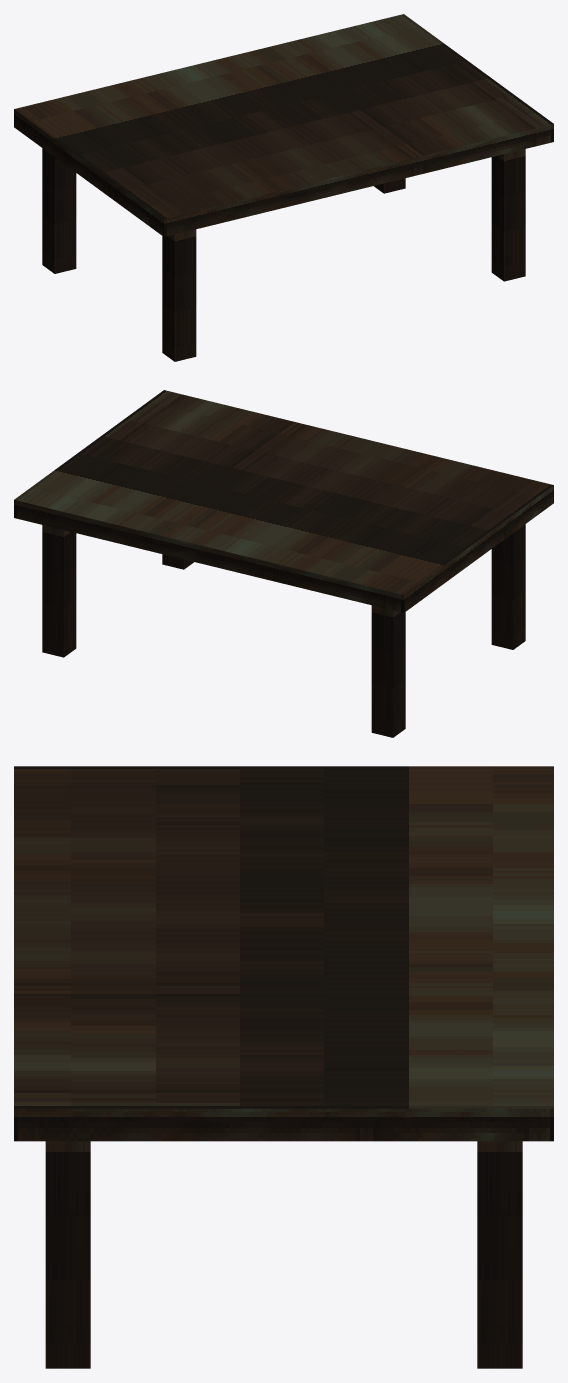
File: prop_low_table.glb
3 views of the same model, one above another, from view 1: azimuth 30°, elevation 25°; view 2: azimuth 150°, elevation 25°; view 3: azimuth 270°, elevation 25° (orthographic). The views are drawn at different scales.
Parts seen in each view (by area): view 1: prop_low_table; view 2: prop_low_table; view 3: prop_low_table.
Part boxes in pixels (x1,y1,x2,y2): prop_low_table: (14,14,553,361); prop_low_table: (14,390,553,737); prop_low_table: (14,766,553,1368).
Bounding box in the file's own units: 0.9 × 0.34 × 0.6.
1 material, 1 textured.
